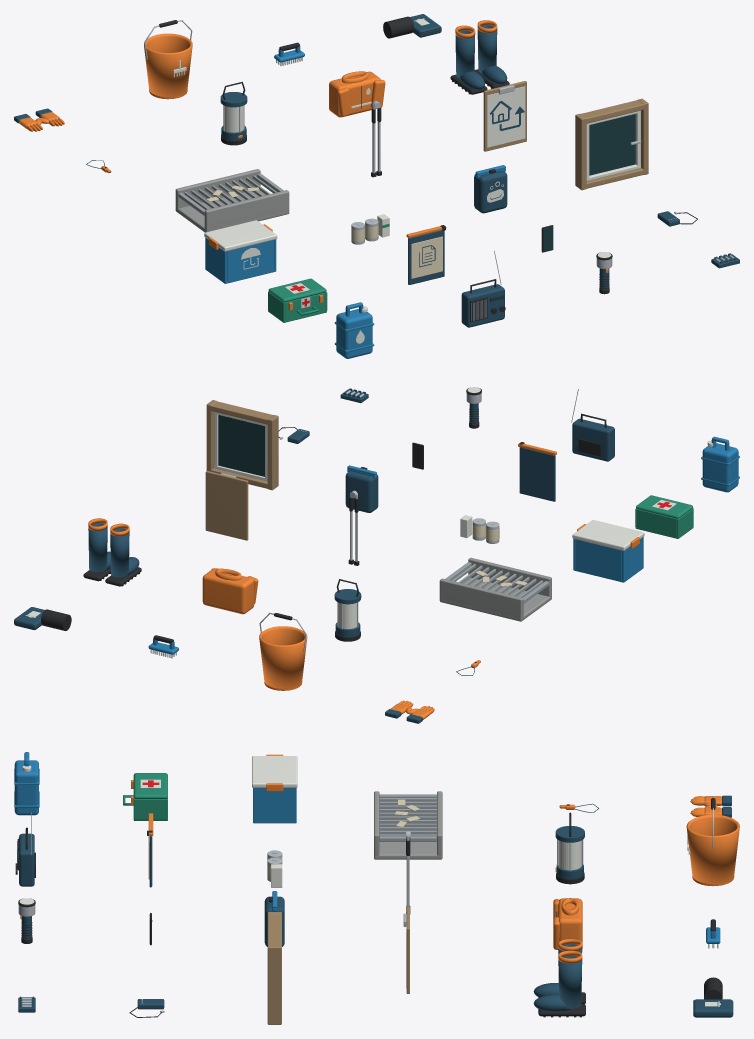
File: TORMSIM_Preparedness_Kit.glb
The picture shows the model from 3 angles, top to bottom: view 1: azimuth 30°, elevation 25°; view 2: azimuth 150°, elevation 25°; view 3: azimuth 270°, elevation 25°; orthographic projection. The views are drawn at different scales.
Visible parts, largest first — view 1: Bucket wall and rim, Pane, Channel lip, Replaceable map sheet, Moulded body, Front wall, Separate lid, Folded coat body, Front sleeve, Housing, Flexible dry bag, Channel lip.001 (+11 smaller); view 2: Clipboard, Bucket wall and rim, Pane, Channel lip.001, Folded coat body, Pouch body, Moulded body, Back wall, Separate lid, Housing, Flexible dry bag, Channel lip (+9 smaller); view 3: Bucket wall and rim, Right wall, Separate lid, Moulded body, Frame upright.001, Hollow boot shaft.001, Channel floor, Folded coat body, Housing, Hinged lid, Folded waste sack, Case side.001 (+4 smaller).
Part boxes in pixels (x1,y1,x2,y2): Bucket wall and rim: [144, 33, 192, 97]; Pane: [589, 114, 635, 175]; Channel lip: [204, 190, 289, 230]; Replaceable map sheet: [487, 86, 525, 147]; Moulded body: [336, 309, 372, 358]; Front wall: [227, 240, 274, 281]; Separate lid: [204, 220, 277, 251]; Folded coat body: [329, 71, 380, 117]; Front sleeve: [411, 236, 442, 278]; Housing: [461, 284, 504, 327]; Flexible dry bag: [474, 171, 507, 213]; Channel lip.001: [175, 169, 260, 208]; Clipboard: [205, 471, 248, 540]; Bucket wall and rim: [259, 626, 307, 688]; Pane: [218, 415, 264, 476]; Channel lip.001: [439, 578, 523, 618]; Folded coat body: [202, 569, 254, 614]; Pouch body: [519, 447, 555, 501]; Moulded body: [702, 443, 738, 492]; Back wall: [575, 539, 621, 580]; Separate lid: [572, 520, 644, 550]; Housing: [572, 418, 614, 461]; Flexible dry bag: [345, 471, 378, 512]; Channel lip: [468, 557, 551, 597]; Bucket wall and rim: [686, 814, 739, 883]; Right wall: [253, 788, 296, 821]; Separate lid: [252, 756, 297, 787]; Moulded body: [14, 760, 38, 815]; Frame upright.001: [267, 945, 281, 1024]; Hollow boot shaft.001: [558, 955, 582, 1008]; Channel floor: [374, 842, 442, 859]; Folded coat body: [558, 898, 582, 948]; Housing: [19, 833, 34, 886]; Hinged lid: [133, 773, 167, 798]; Folded waste sack: [693, 999, 733, 1017]; Case side.001: [133, 798, 167, 819].
Size of what is drawn, in the model's own units: 2.86 by 0.48 by 3.81.
